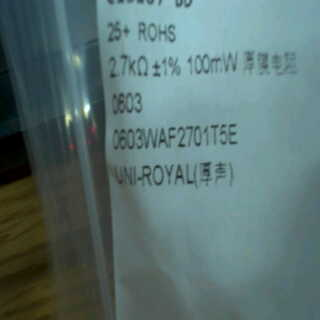2.7kR: (105, 51, 153, 82)
